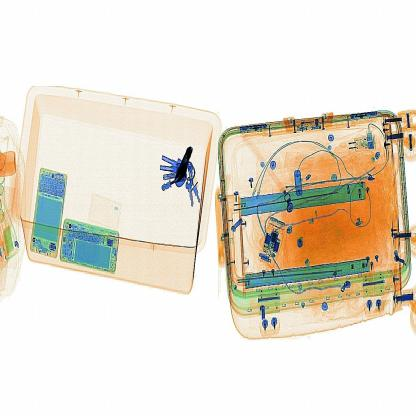knife: (168, 132, 206, 196)
